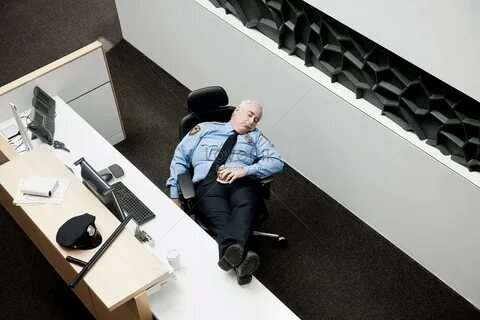sleep: (169, 100, 285, 285)
